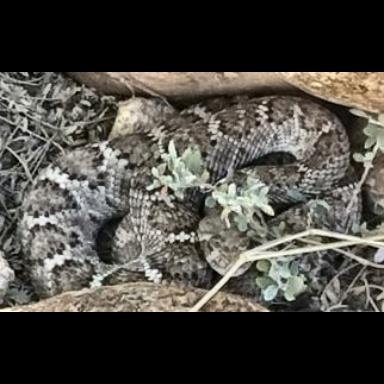snake: (24, 95, 384, 311)
